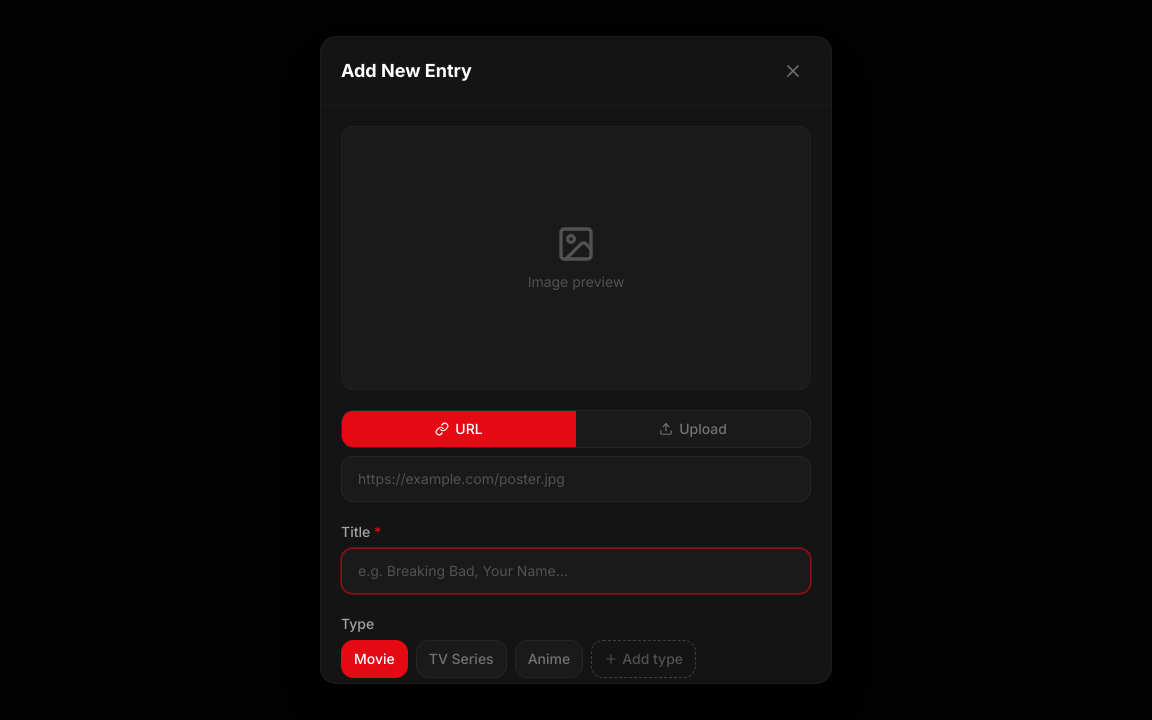
Test case: AddEntryModal › reveals input when "+ Add type" is clicked
This screenshot has width=1152, height=720.
Click the button "Add type": [644, 659] box [591,640,696,678]
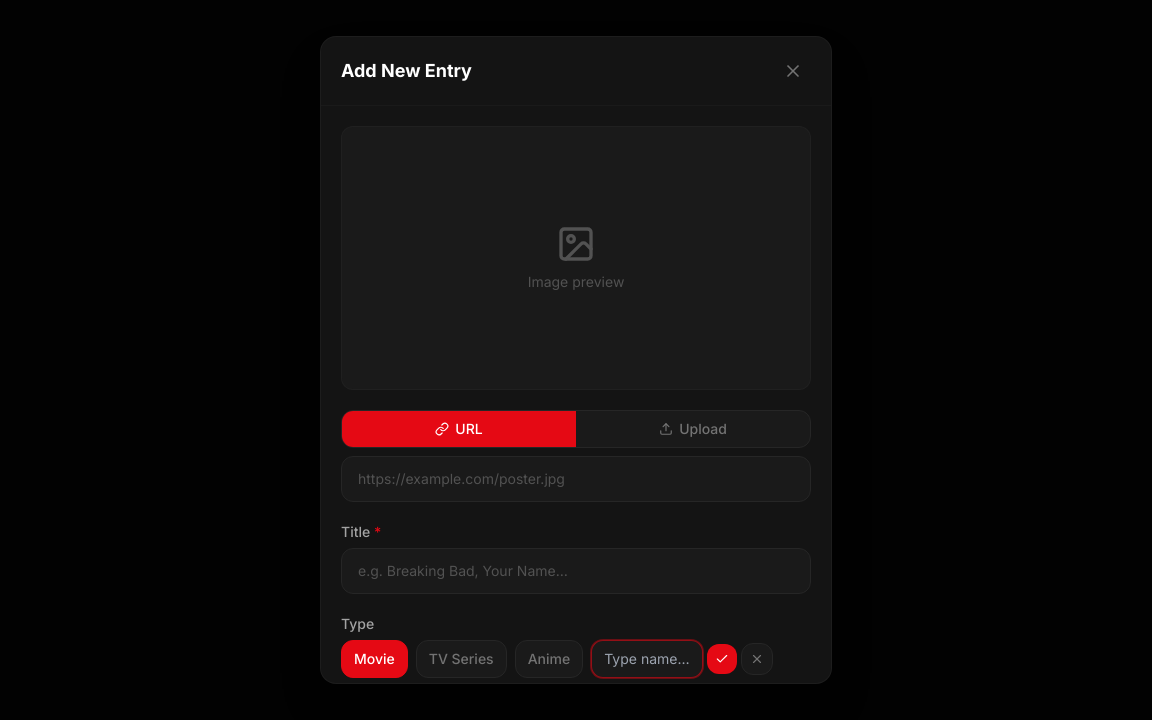
Expected: the field with placeholder "Type name…" is shown, [591,640,703,678]
